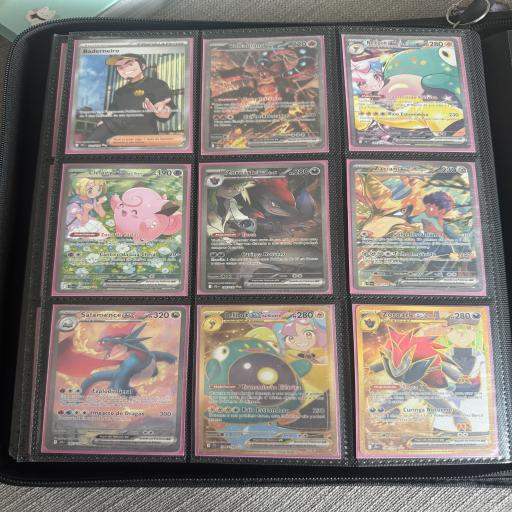card: (198, 304, 340, 456), (355, 302, 494, 457), (44, 304, 187, 452), (349, 160, 485, 292), (196, 163, 329, 295), (55, 164, 188, 293), (342, 36, 474, 149), (199, 36, 325, 154), (69, 38, 190, 150)
